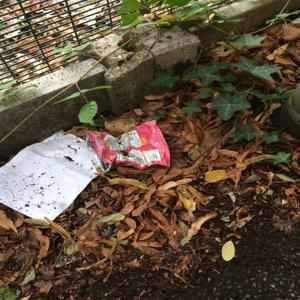paper: (1, 127, 116, 233)
plastic: (80, 121, 180, 172)
